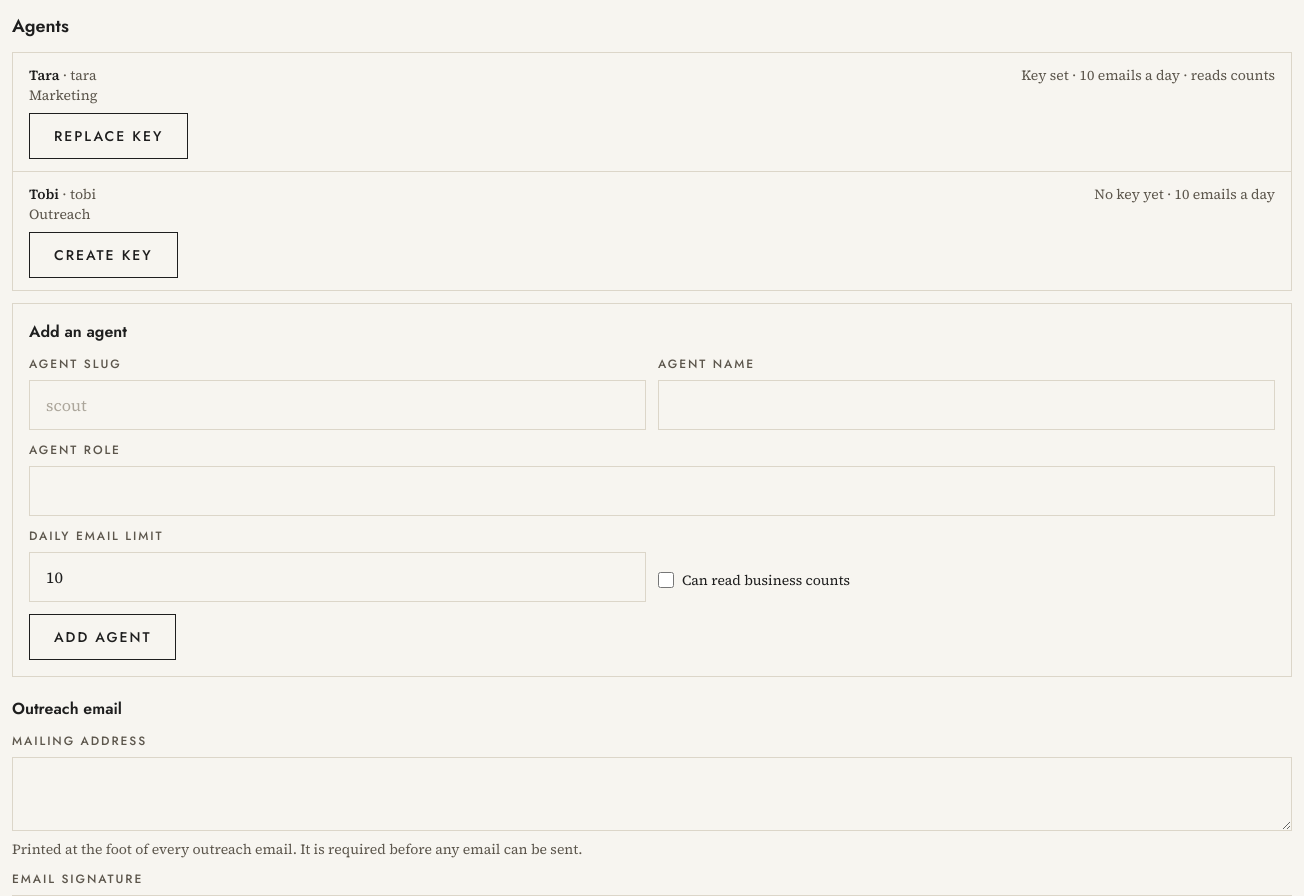
Test: agents section › asks inline before replacing a key
The image size is (1304, 896).
Step 1. Click the button "Replace key" → (109, 136), box [29, 113, 188, 159]
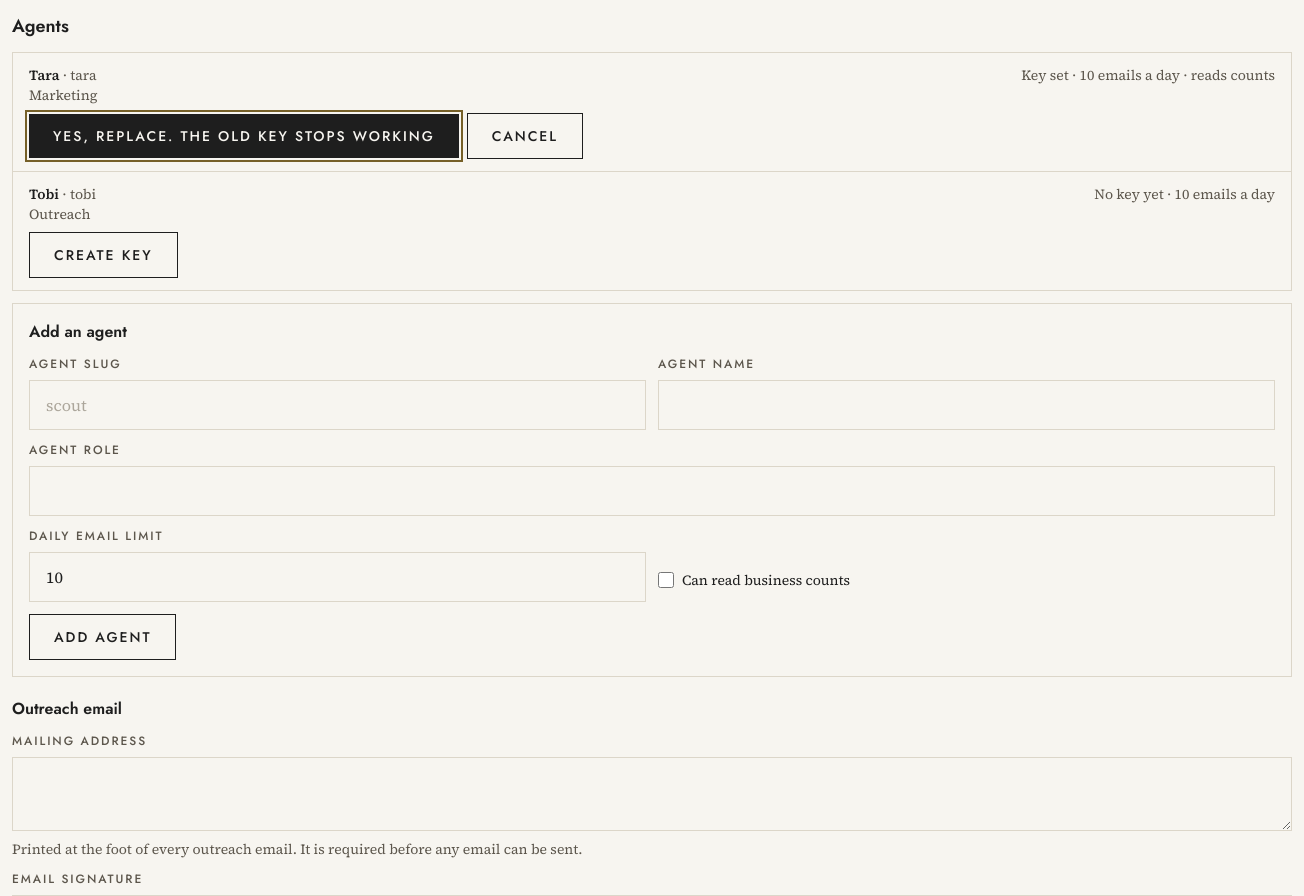
Expected: the button "Yes, replace. The old key stops working" is shown, [29, 114, 459, 158]
